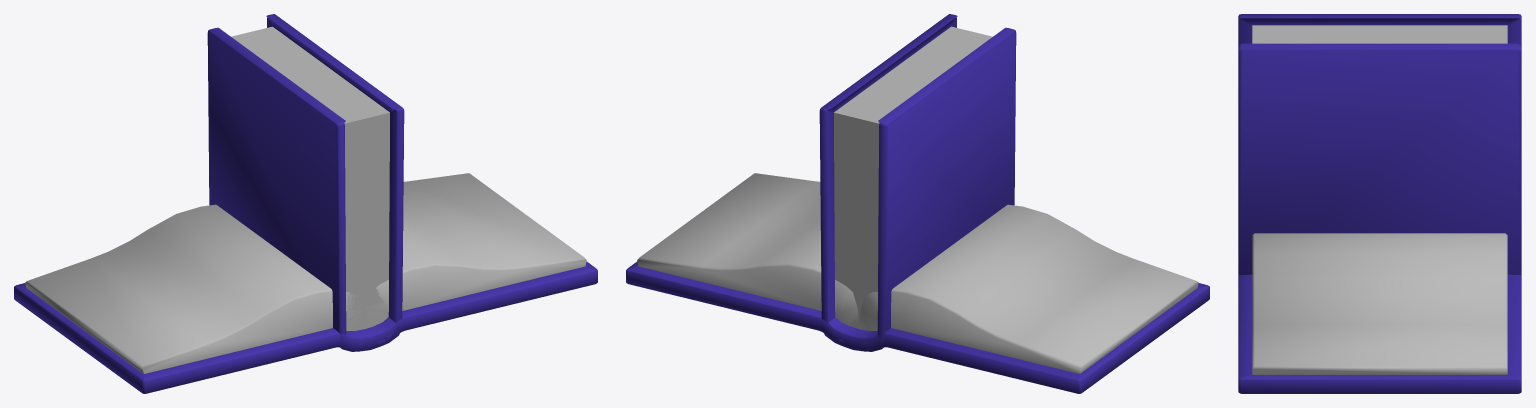
The model's file is Books.fbx.
The picture shows the model from 3 angles, left to right: view 1: azimuth 30°, elevation 25°; view 2: azimuth 150°, elevation 25°; view 3: azimuth 270°, elevation 25°; orthographic projection. The views are drawn at different scales.
Parts seen in each view (by area): view 1: Book_Open, Book_Close; view 2: Book_Open, Book_Close; view 3: Book_Close, Book_Open.
Boxes of the visible parts, left/top/right/bottom form: Book_Open: left=14, top=173, right=597, bottom=393; Book_Close: left=207, top=14, right=404, bottom=351; Book_Open: left=626, top=173, right=1209, bottom=393; Book_Close: left=819, top=14, right=1016, bottom=351; Book_Close: left=1238, top=14, right=1521, bottom=275; Book_Open: left=1238, top=233, right=1521, bottom=393.
Size of the model in its own units: 4.03 by 1.98 by 2.
